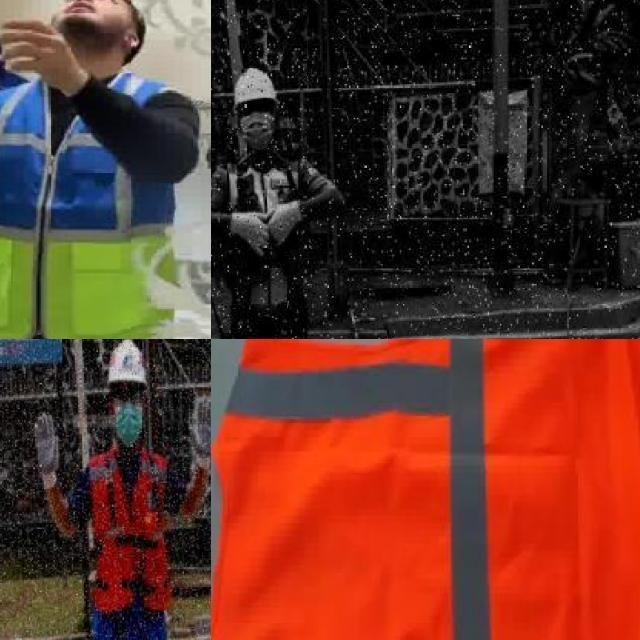apron: (229, 206, 269, 259), (34, 410, 60, 490), (266, 198, 304, 248), (188, 393, 211, 472)
